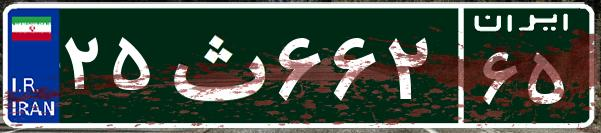2: (385, 28, 445, 110), (57, 26, 110, 107)
5: (110, 28, 158, 105), (525, 38, 570, 115)
6: (273, 28, 330, 110), (330, 28, 385, 110), (475, 38, 525, 113)
ث: (158, 15, 273, 115)
